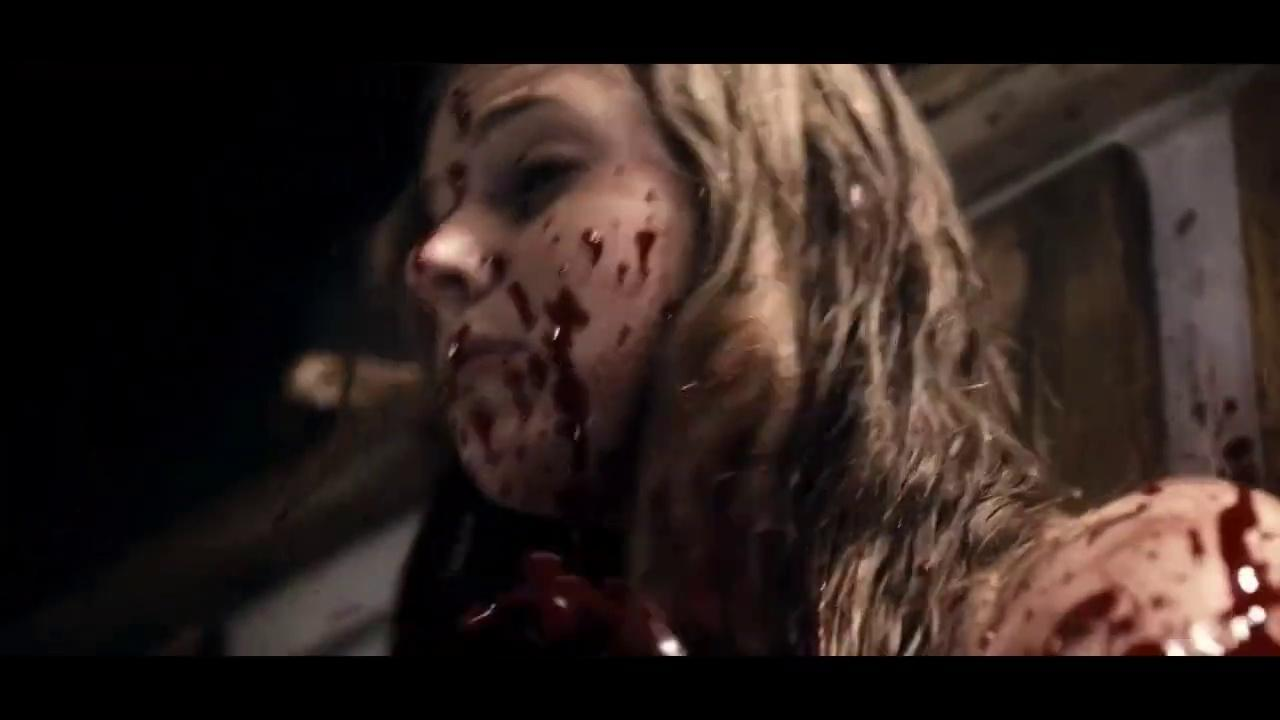Fire: (413, 80, 665, 506), (821, 477, 1280, 657), (463, 552, 687, 670), (678, 534, 816, 657)
